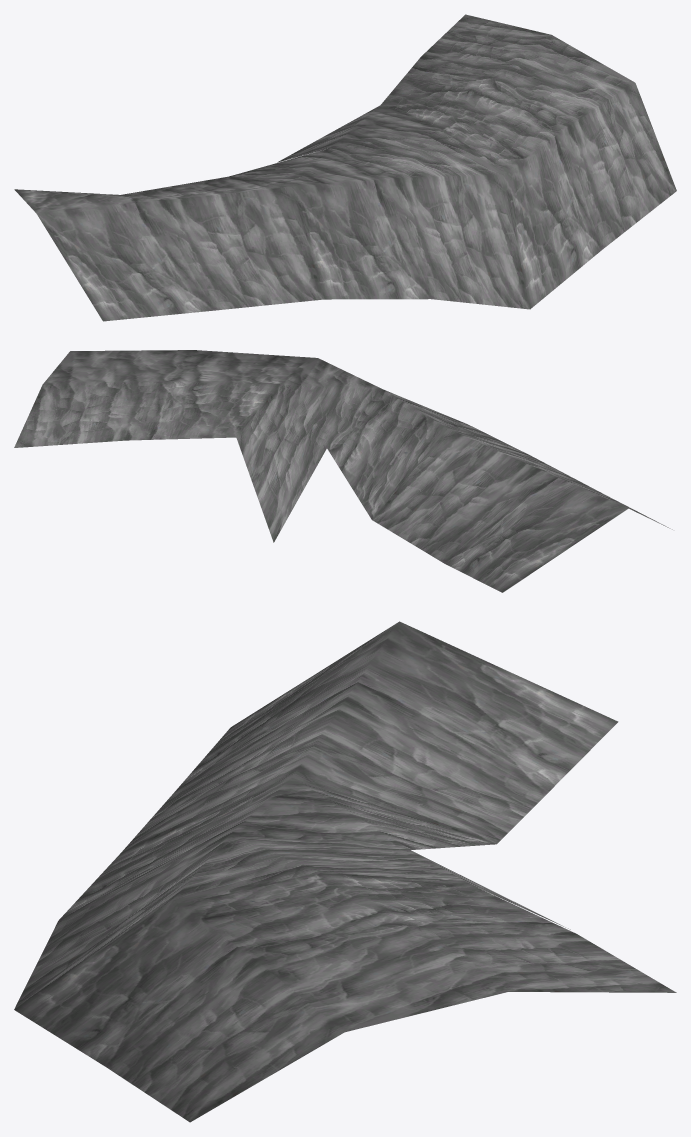
The model's file is SWORDLIGHT20_PS-AREA04_17.fbx.
3 renders of one model, top to bottom at view 1: azimuth 30°, elevation 25°; view 2: azimuth 150°, elevation 25°; view 3: azimuth 270°, elevation 25°, orthographic. The views are drawn at different scales.
Visible parts, largest first — view 1: SWORDLIGHT20_PS-AREA04_17; view 2: SWORDLIGHT20_PS-AREA04_17; view 3: SWORDLIGHT20_PS-AREA04_17.
Boxes of the visible parts, x1,y1,x2,y2 form: SWORDLIGHT20_PS-AREA04_17: [14, 14, 676, 321]; SWORDLIGHT20_PS-AREA04_17: [14, 350, 672, 592]; SWORDLIGHT20_PS-AREA04_17: [14, 621, 676, 1122].
Bounding box in the file's own units: 154503 × 27026 × 104222.
1 material, 1 textured.
